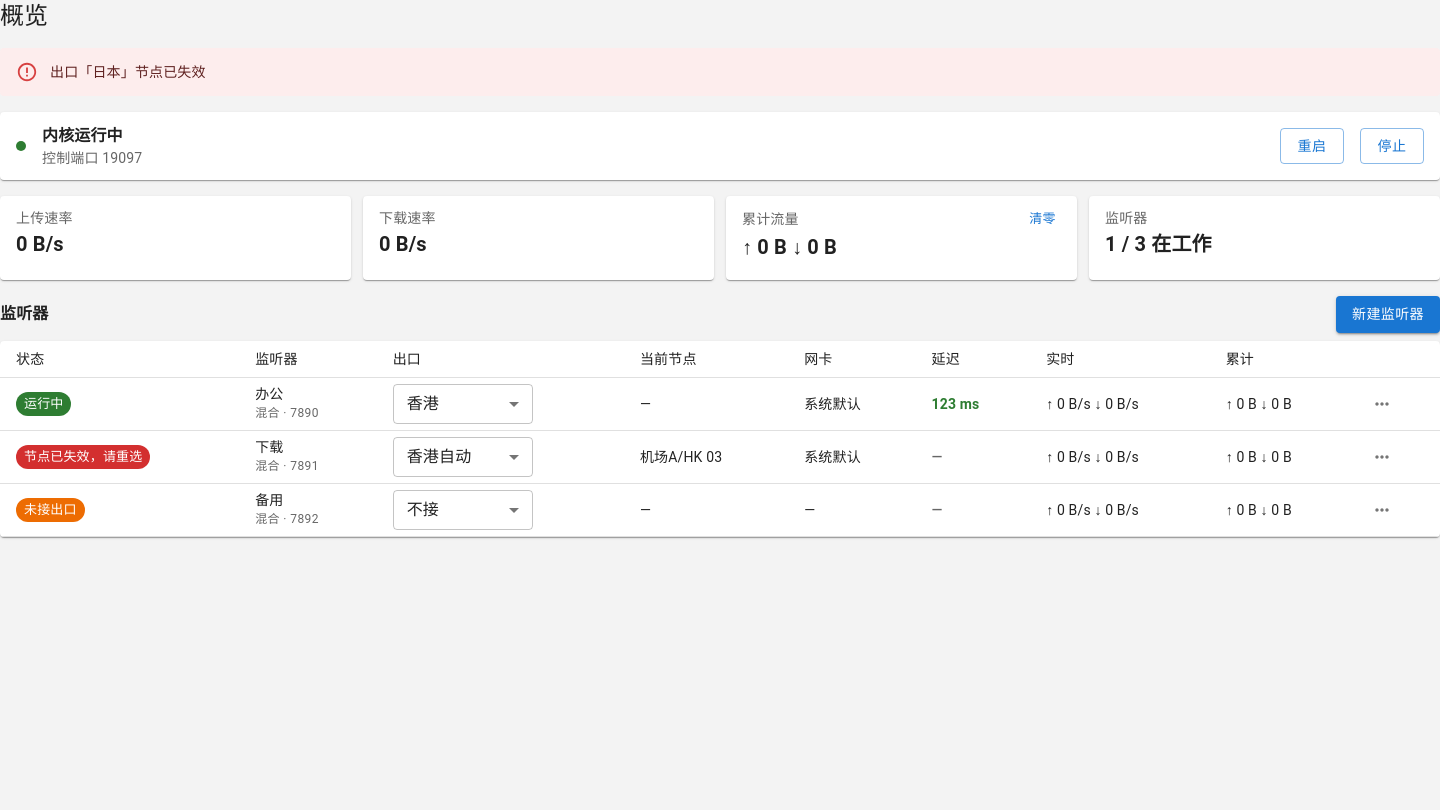
it: Overview › edits a listener from its row
Click the button named "操作 办公": [1382, 404] box [1367, 388, 1397, 418]
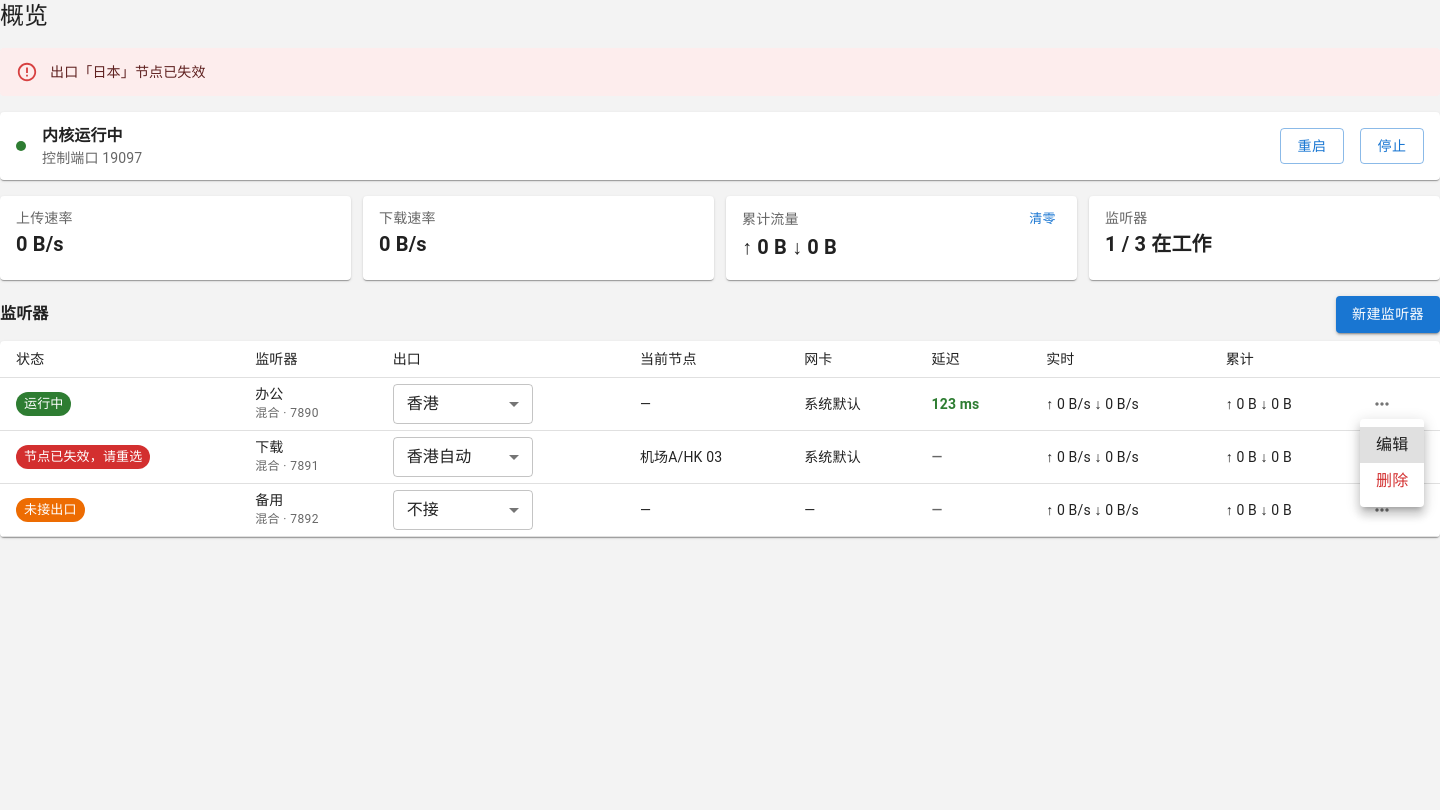
Click the menu item with aria-label "编辑 办公": [1392, 445] box [1360, 427, 1424, 463]
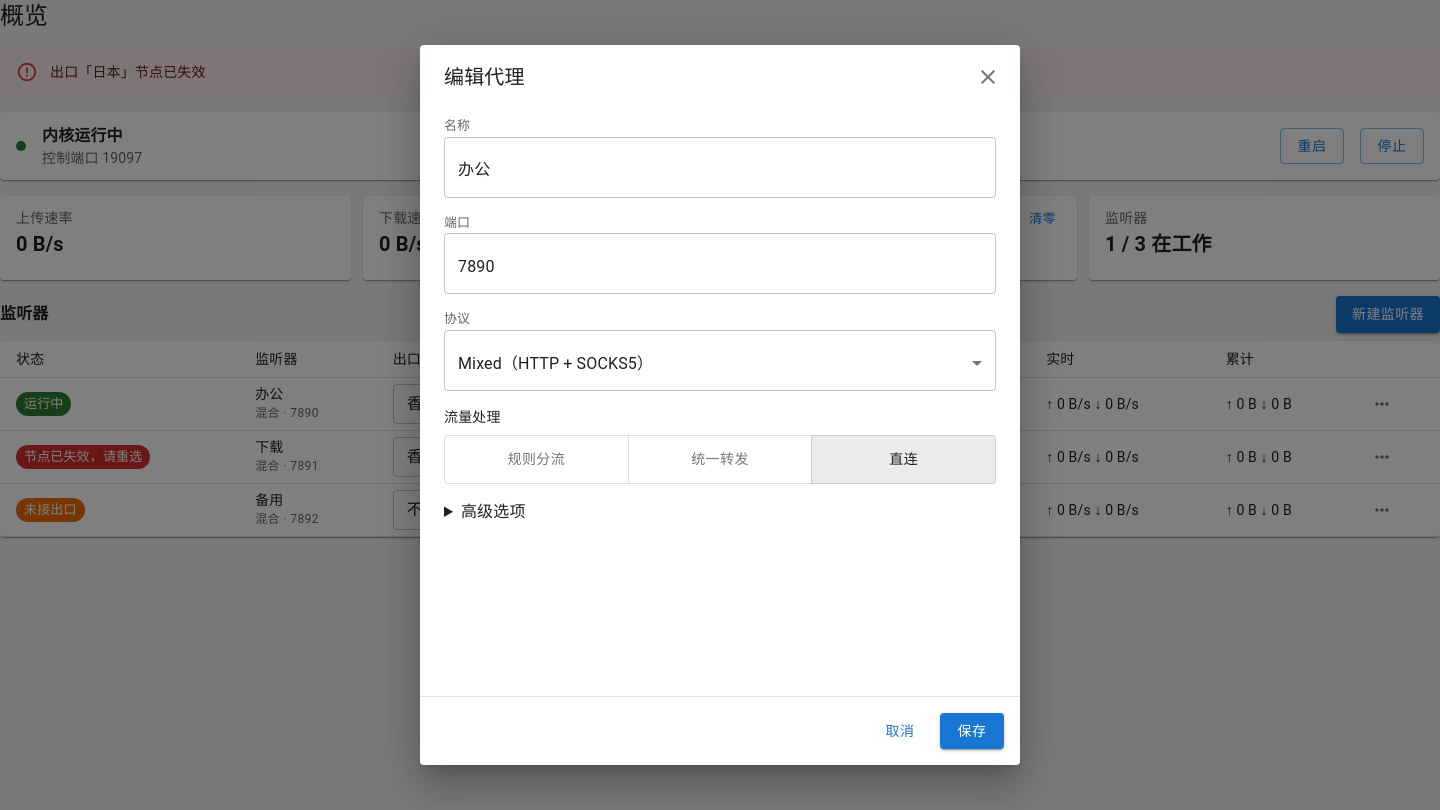
Now the dialog shows "编辑代理", box [444, 65, 525, 89]
Now the field labelled "名称" holds "办公", box [444, 142, 996, 198]
